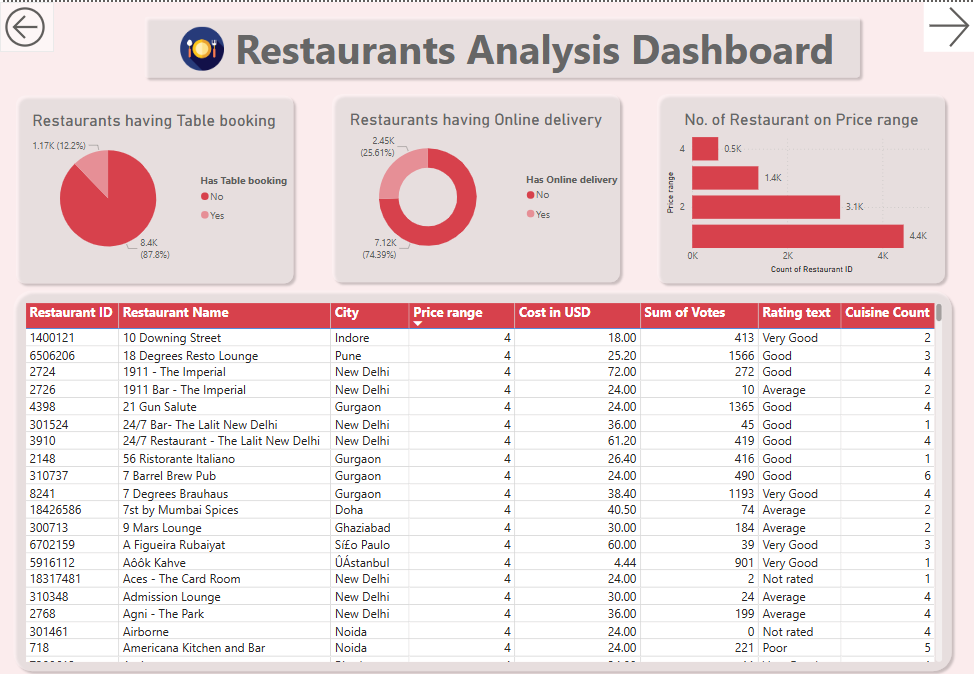

Layout of this report page (visuals, bound fields, positions):
{"tool":"powerbi","page":{"name":"Restraunts","canvas":[1300,900],"ordinal":2},"visuals":[{"type":"shape","box":[868.3,115,399.3,267.6],"z":0},{"type":"shape","box":[435,115,399.3,266.2],"z":500,"group":"g2"},{"type":"shape","box":[184.3,11.2,969.1,96.8],"z":1000,"group":"g3"},{"type":"group","id":"g1","title":"Group 3","box":[13,116.4,385.6,266.2],"z":1000},{"type":"shape","box":[13,116.4,385.6,266.2],"z":1000,"group":"g1"},{"type":"image","box":[146.7,27,245.9,68],"z":1001,"group":"g6"},{"type":"group","id":"g2","title":"Group 3","box":[435,115,399.3,266.2],"z":2000,"group":"g4"},{"type":"shape","box":[10,376.7,1266.7,523.3],"z":2000},{"type":"pieChart","title":"Restaurants having Table booking","fields":{"Category":["KPIs.Has Table booking"],"Y":["CountNonNull(allContinents.Restaurant ID)"]},"box":[17.1,144.5,377.4,209.9],"z":3000},{"type":"barChart","title":"No. of Restaurant on Price range","fields":{"Category":["KPIs.Price range"],"Y":["Count(allContinents.Restaurant ID)"]},"box":[883.4,143.8,370.5,223.7],"z":4000},{"type":"donutChart","title":"Restaurants having Online delivery","fields":{"Category":["KPIs.Has Online delivery"],"Y":["CountNonNull(allContinents.Restaurant ID)"]},"box":[435,143.1,399.3,209.9],"z":5000,"group":"g4"},{"type":"tableEx","fields":{"Values":["allContinents.Restaurant ID","allContinents.Restaurant Name","allContinents.City","KPIs.Price range","KPIs.Cost in USD","KPIs.Votes","KPIs.Rating text","Sum(allContinents.CuisineCount)"]},"box":[28.3,396.7,1233.3,488.3],"z":5000},{"type":"group","id":"g3","title":"Group 7","box":[146.7,11.2,1006.8,96.8],"z":6000},{"type":"group","id":"g4","title":"Group 1","box":[435,115,398.3,265],"z":7000},{"type":"actionButton","box":[1231.7,0,68.3,66.7],"z":7001},{"type":"actionButton","box":[0,0,71.7,66.7],"z":7002},{"type":"textbox","box":[307.9,19.2,823,82.4],"z":11000,"group":"g5"},{"type":"group","id":"g5","title":"Group 4","box":[307.9,19.2,822.7,82.4],"z":12001,"group":"g6"},{"type":"group","id":"g6","title":"Group 6","box":[146.7,19.2,983.8,82.4],"z":12002,"group":"g3"}]}

Visuals, with their boxes in screenshot pixels (x1, y1, x2, y2), scaled from the page's 1300x900 canvas onto the 974x674 screenshot:
shape: 651/86/950/287
shape: 326/86/625/285
shape: 138/8/864/81
"Group 3" group: 10/87/299/287
shape: 10/87/299/287
image: 110/20/294/71
"Group 3" group: 326/86/625/285
shape: 7/282/957/673
"Restaurants having Table booking" pieChart: 13/108/296/265
"No. of Restaurant on Price range" barChart: 662/108/939/275
"Restaurants having Online delivery" donutChart: 326/107/625/264
tableEx - allContinents.Restaurant ID x allContinents.Restaurant Name: 21/297/945/663
"Group 7" group: 110/8/864/81
"Group 1" group: 326/86/624/285
actionButton: 923/0/973/50
actionButton: 0/0/54/50
textbox: 231/14/847/76
"Group 4" group: 231/14/847/76
"Group 6" group: 110/14/847/76
